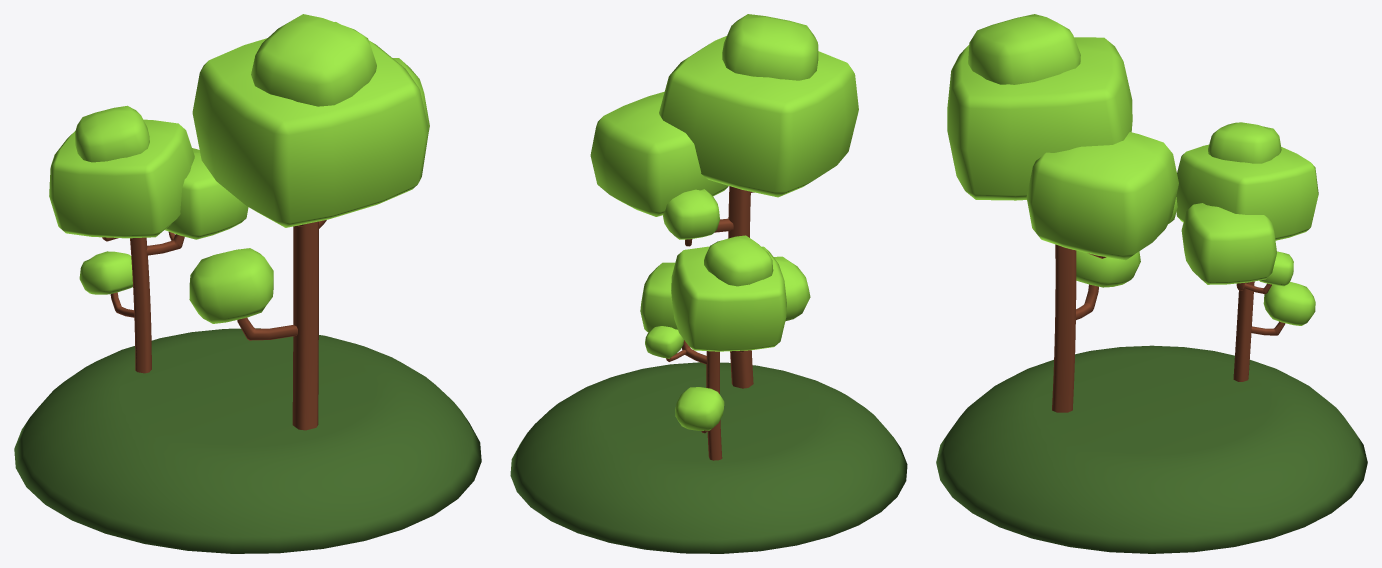
File: Island2.fbx
The picture shows the model from 3 angles, left to right: view 1: azimuth 30°, elevation 25°; view 2: azimuth 150°, elevation 25°; view 3: azimuth 270°, elevation 25°; orthographic projection. The views are drawn at different scales.
Parts seen in each view (by area): view 1: Cylinder; view 2: Cylinder; view 3: Cylinder.
Boxes of the visible parts, left/top/right/bottom form: Cylinder: left=14, top=14, right=481, bottom=553; Cylinder: left=510, top=14, right=907, bottom=553; Cylinder: left=936, top=14, right=1367, bottom=553.
Size of the model in its own units: 31.67 by 35.58 by 31.67.
